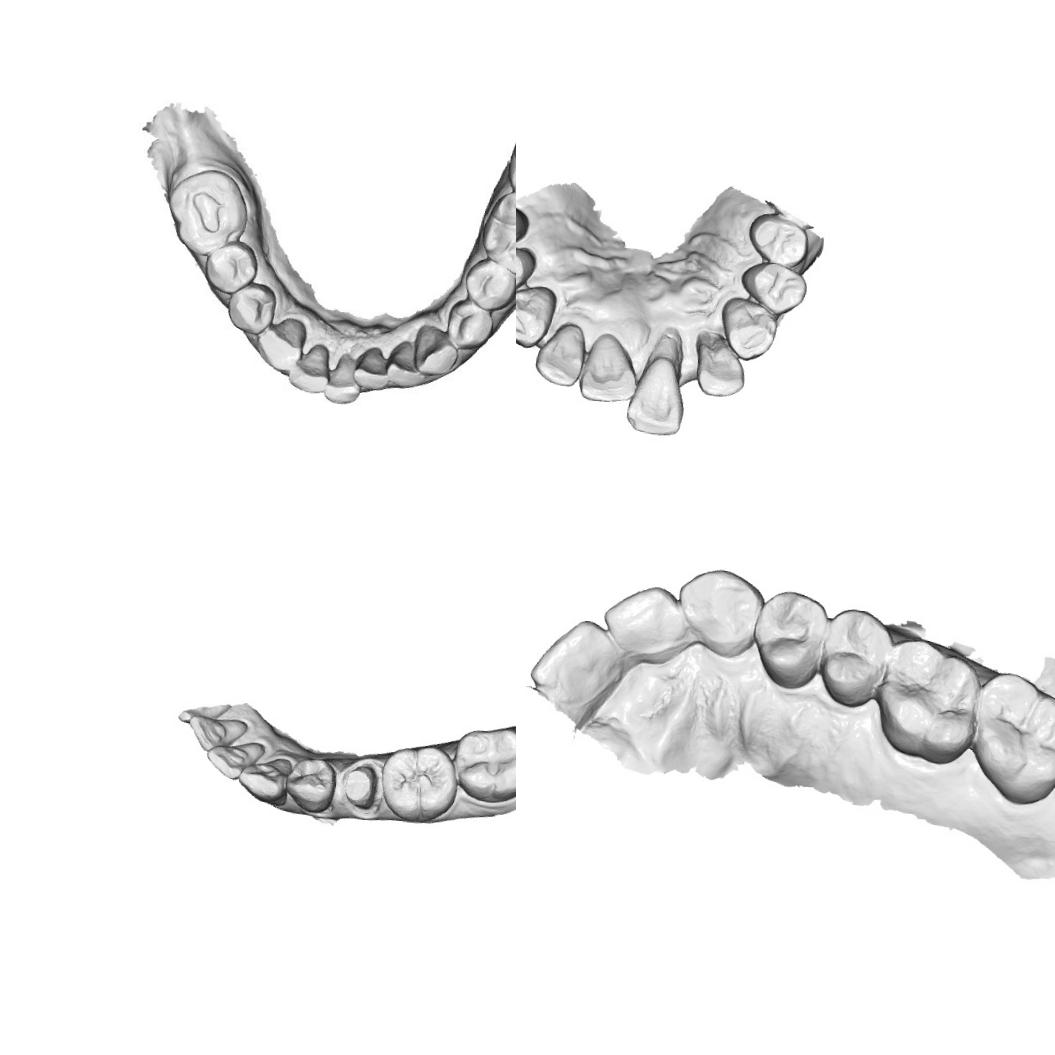canine: (674, 561, 766, 660), (716, 292, 782, 362), (252, 312, 313, 373), (233, 750, 296, 806), (410, 318, 461, 381), (516, 281, 558, 351)
crown: (336, 755, 382, 815)
incisor: (525, 612, 623, 707), (596, 580, 689, 668), (623, 327, 692, 438), (577, 328, 641, 404), (690, 325, 751, 400), (531, 319, 587, 388), (182, 711, 252, 755), (204, 735, 266, 782), (318, 350, 364, 406), (284, 342, 330, 394), (353, 344, 394, 390), (386, 340, 426, 386)
molar: (869, 631, 986, 768), (968, 665, 1055, 809), (166, 168, 252, 254), (377, 740, 462, 826), (448, 719, 516, 806), (482, 189, 516, 273)
premolar: (746, 585, 832, 692), (815, 604, 892, 712), (744, 210, 810, 270), (740, 258, 810, 314), (282, 753, 338, 814), (204, 241, 258, 292), (464, 260, 516, 307), (228, 284, 272, 332), (448, 302, 494, 346), (516, 240, 537, 303)
